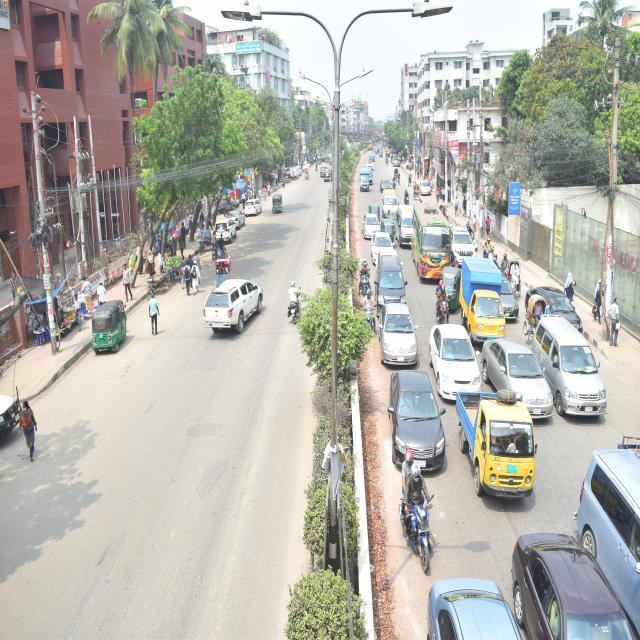bus: (414, 192, 458, 289)
car: (490, 503, 640, 640), (396, 541, 565, 640), (571, 434, 640, 631), (375, 356, 470, 482), (478, 328, 557, 414), (195, 254, 262, 343), (431, 310, 492, 396), (528, 272, 596, 336), (379, 295, 429, 373), (374, 244, 416, 312), (491, 261, 526, 322), (447, 214, 480, 268), (210, 202, 240, 261), (232, 181, 268, 229), (218, 191, 246, 242), (370, 224, 403, 267), (364, 206, 386, 242), (320, 162, 335, 186), (378, 175, 396, 194), (418, 173, 435, 193), (294, 157, 306, 184), (392, 155, 405, 176), (320, 157, 329, 187), (366, 149, 378, 165), (364, 157, 376, 172)
microbus: (532, 298, 621, 427), (395, 200, 425, 258)
motorbike: (385, 438, 457, 600), (275, 256, 314, 352), (356, 282, 386, 358), (428, 273, 458, 341), (202, 228, 231, 266), (354, 251, 374, 305), (498, 246, 517, 294), (482, 237, 500, 279), (398, 184, 414, 221), (389, 170, 405, 204), (310, 158, 322, 180)
pickup-van: (446, 366, 558, 512), (449, 243, 508, 349), (379, 180, 402, 227), (352, 162, 371, 201), (285, 153, 304, 190)
